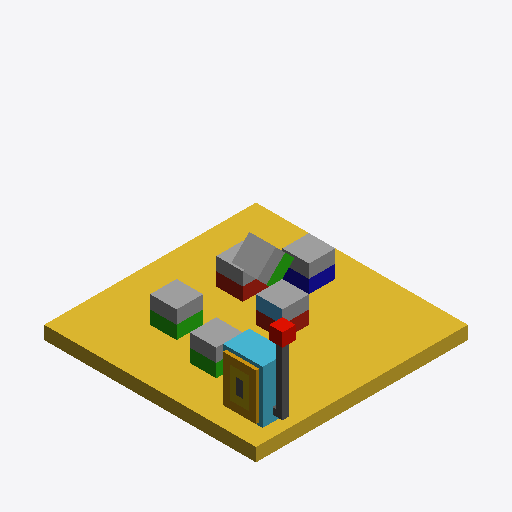
Isometric view (azimuth 45°, elevation 35.3°) of a Minecraft model made of 13 cuboids, textured from the same repository.
Parts seen in each view (by area): element 1, element 11, element 3, element 9, element 4, element 12, element 13, element 10, element 8, element 5, element 6.
Part boxes in pixels (x1,y1,x2,y2): element 1: (44,203,467,461); element 11: (150,279,202,339); element 3: (223,329,278,427); element 9: (282,233,334,293); element 4: (223,350,258,423); element 12: (256,279,308,331); element 13: (232,232,293,285); element 10: (190,317,242,377); element 8: (216,241,268,301); element 5: (276,344,288,412); element 6: (269,317,295,347).
Bounding box in the file's own units: 16 × 11 × 16.